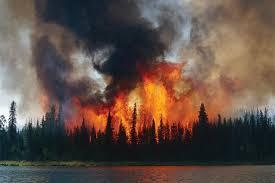fire: (59, 61, 237, 142)
